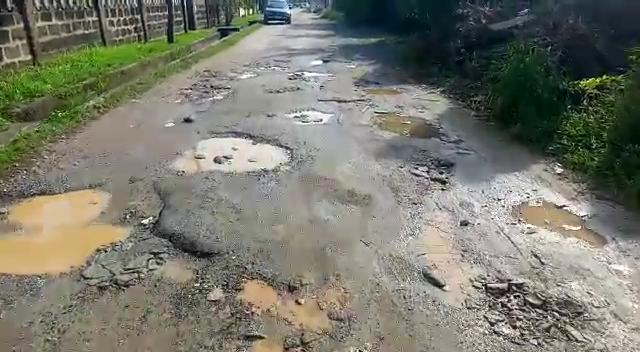pothole: (0, 183, 227, 281), (210, 271, 352, 347), (464, 277, 595, 350), (169, 129, 306, 177), (504, 197, 616, 246), (370, 112, 446, 142), (162, 86, 232, 105), (284, 109, 333, 125), (316, 97, 376, 105), (361, 87, 404, 96)
